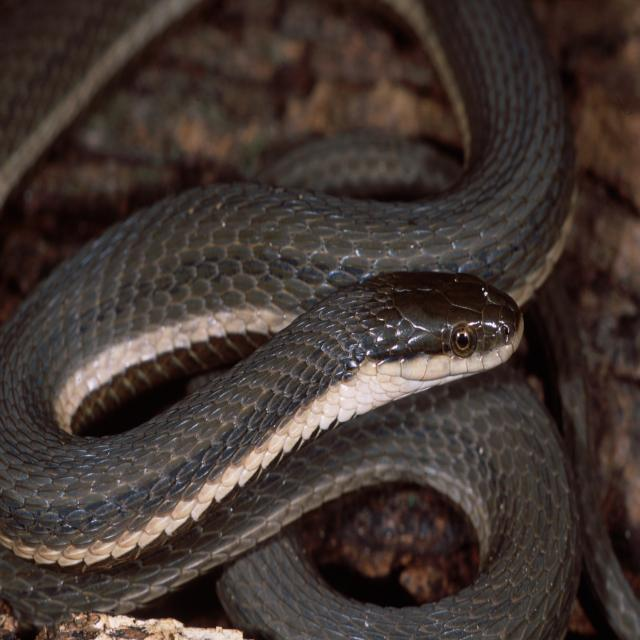Snake: (9, 0, 592, 640)
